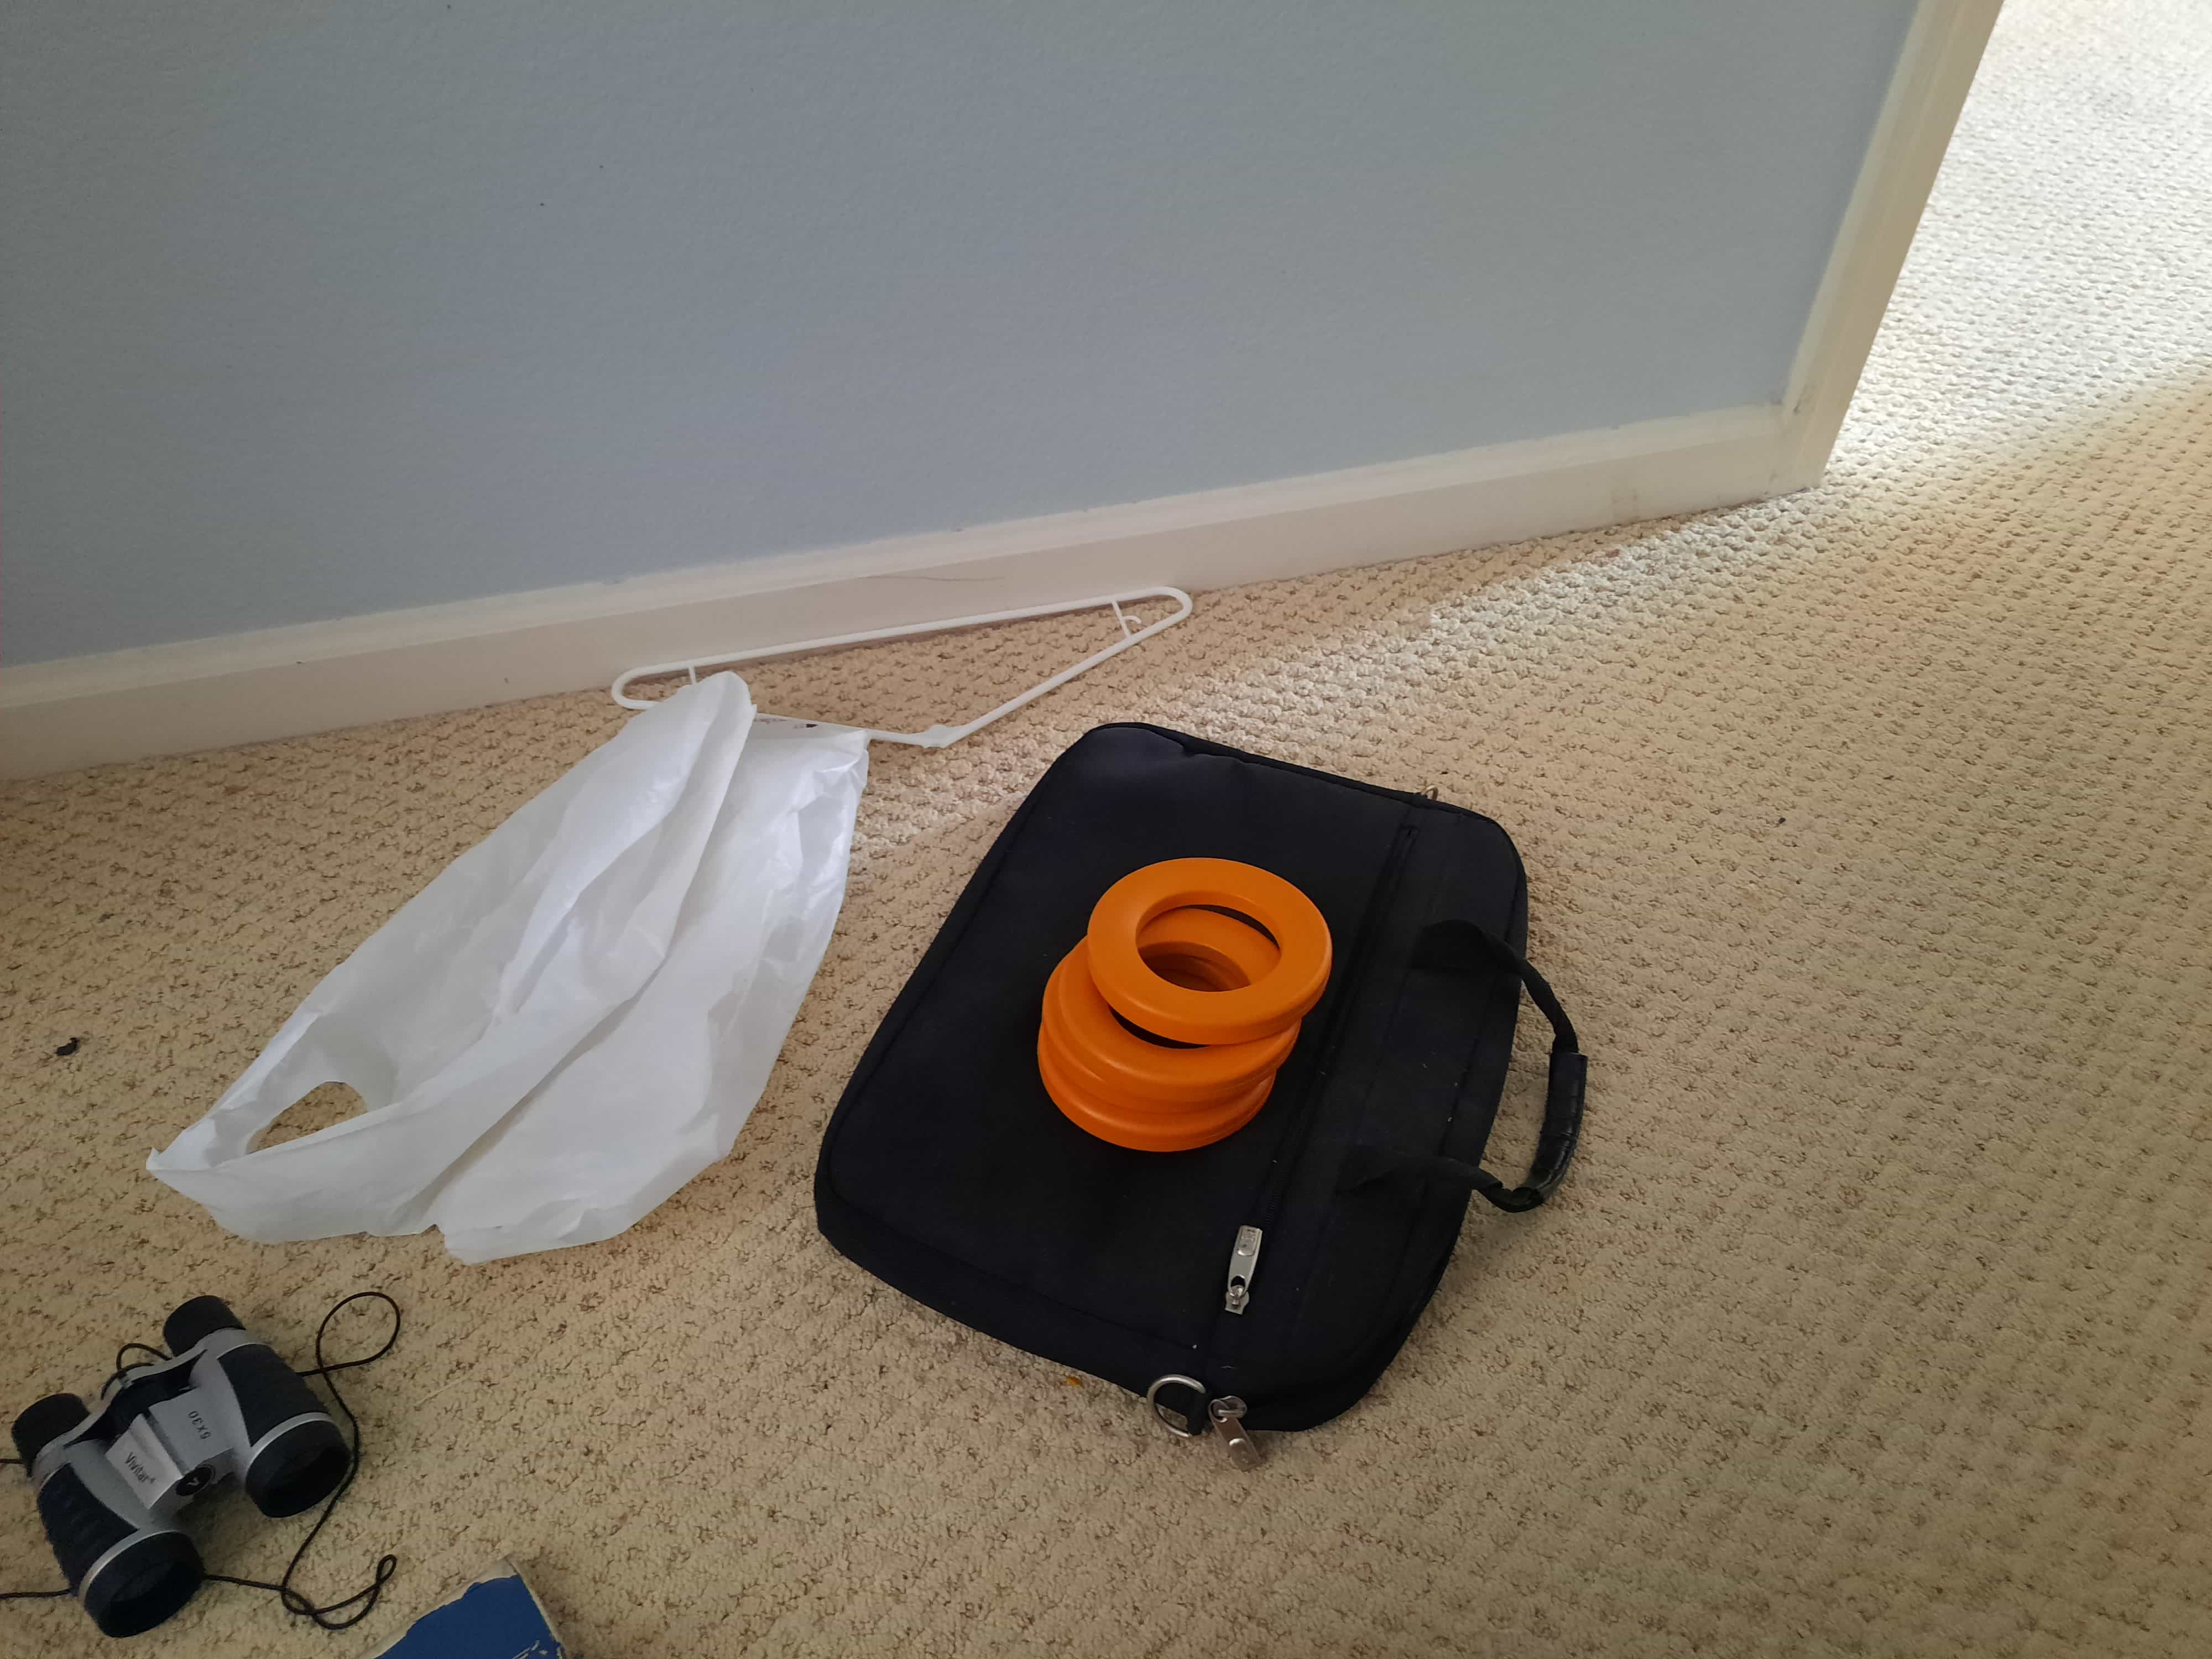FourStack: (1042, 856, 1338, 1155)
